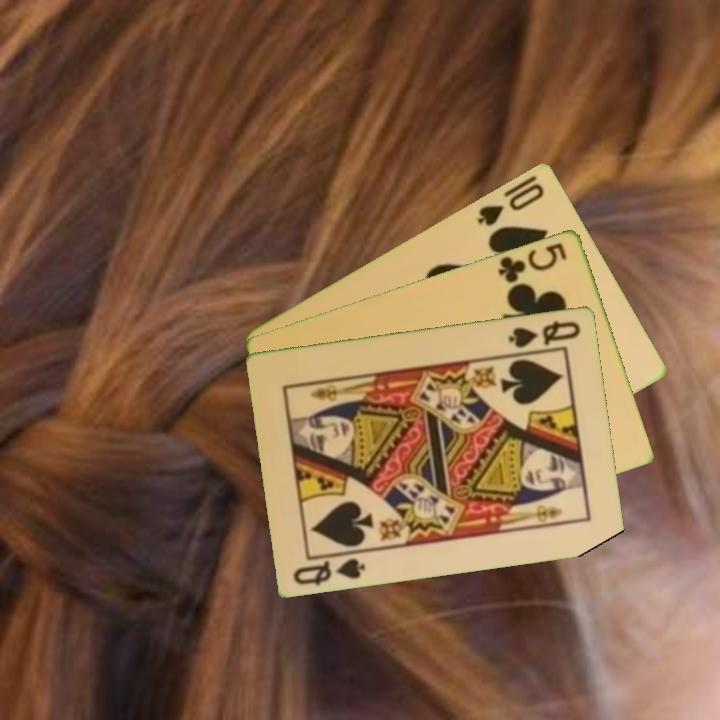10s: (473, 179, 548, 229)
5c: (494, 238, 570, 286)
Qs: (505, 316, 584, 351), (290, 554, 369, 588)
